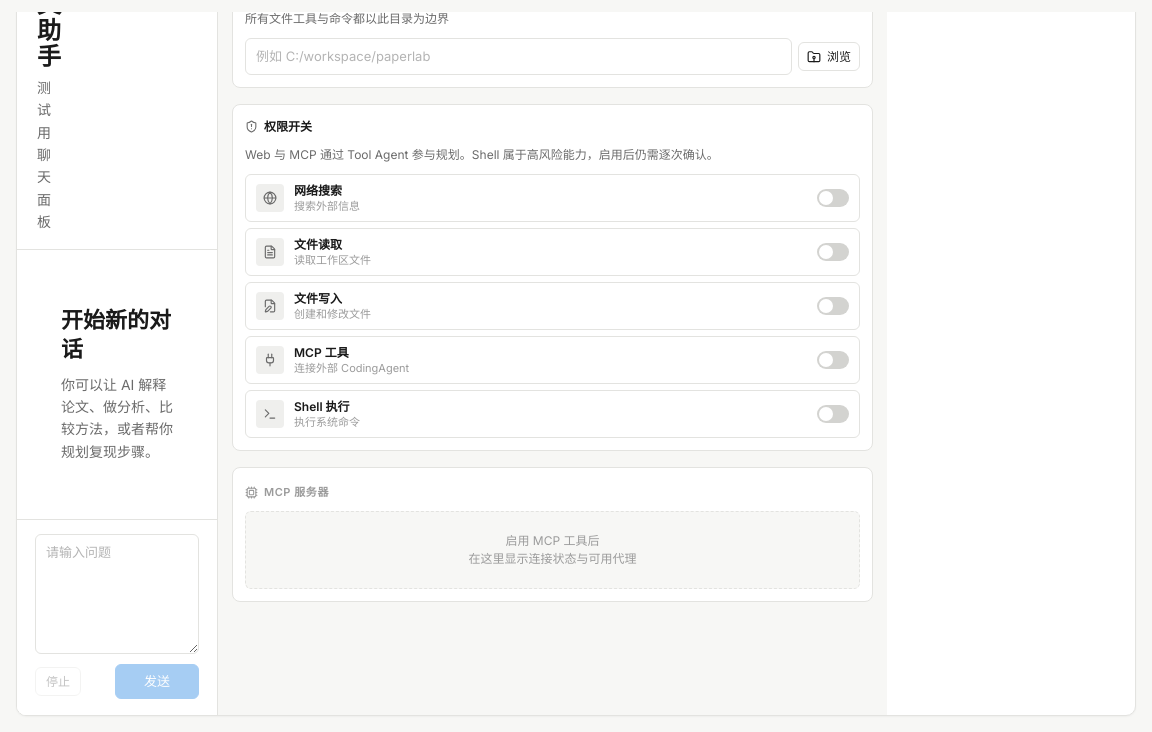
PaperLabChatPanel › 流式回答中输入会进入引导队列而不是启动新对话
The width and height of the screenshot is (1152, 732).
(page scrolled)
Type "解释论文" into the text box with placeholder "请输入问题".
click(117, 594); type("解释论文")  # box [35,534,199,654]
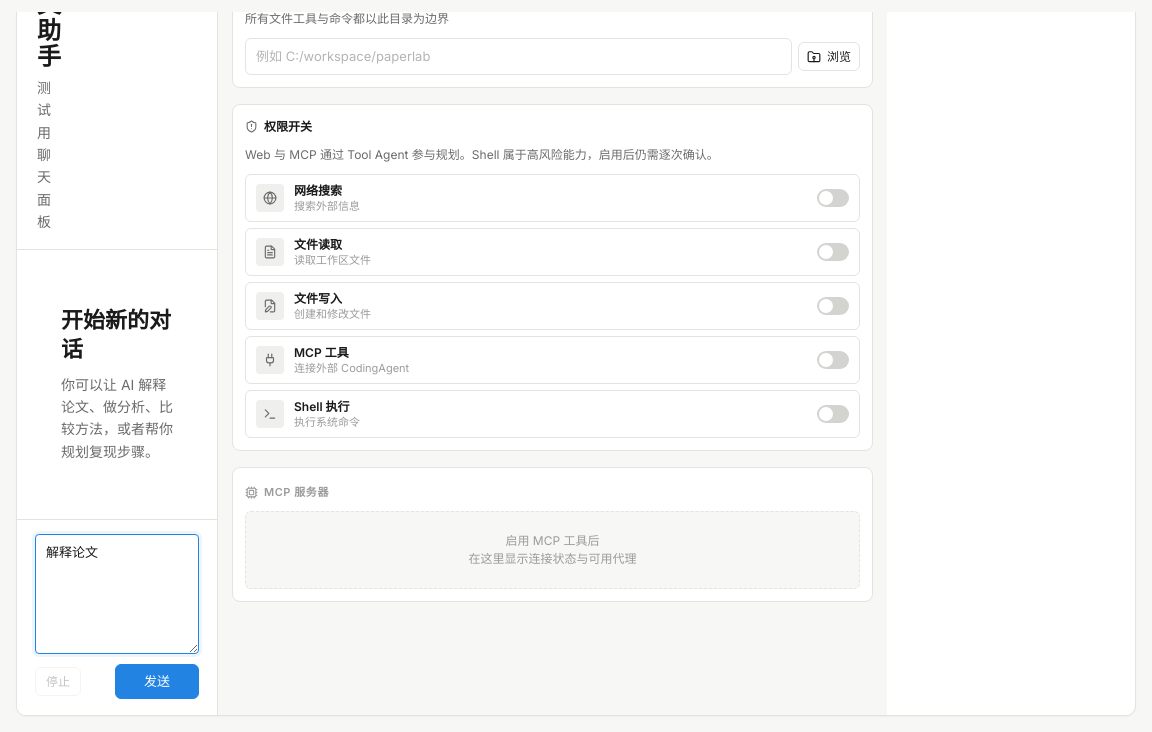
Click the button "发送".
click(157, 682)  # box [115,664,199,699]
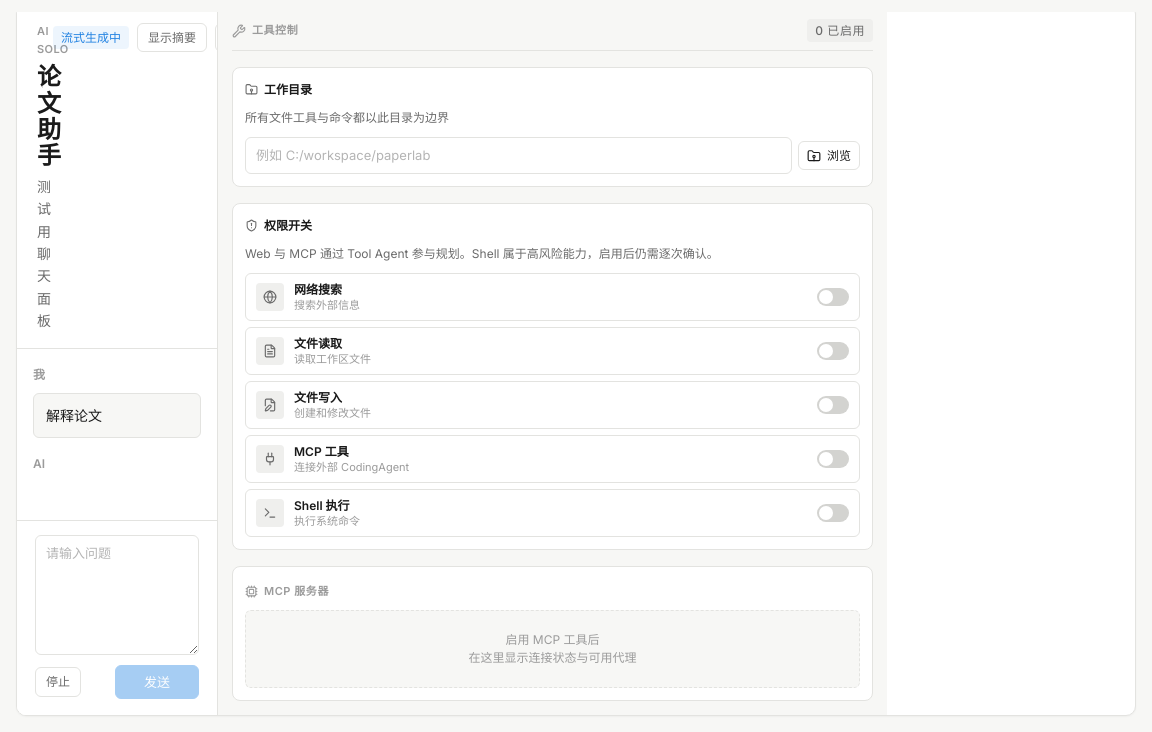
Type "请优先看实验" into the text box with placeholder "请输入问题".
click(117, 595); type("请优先看实验")  # box [35,535,199,655]
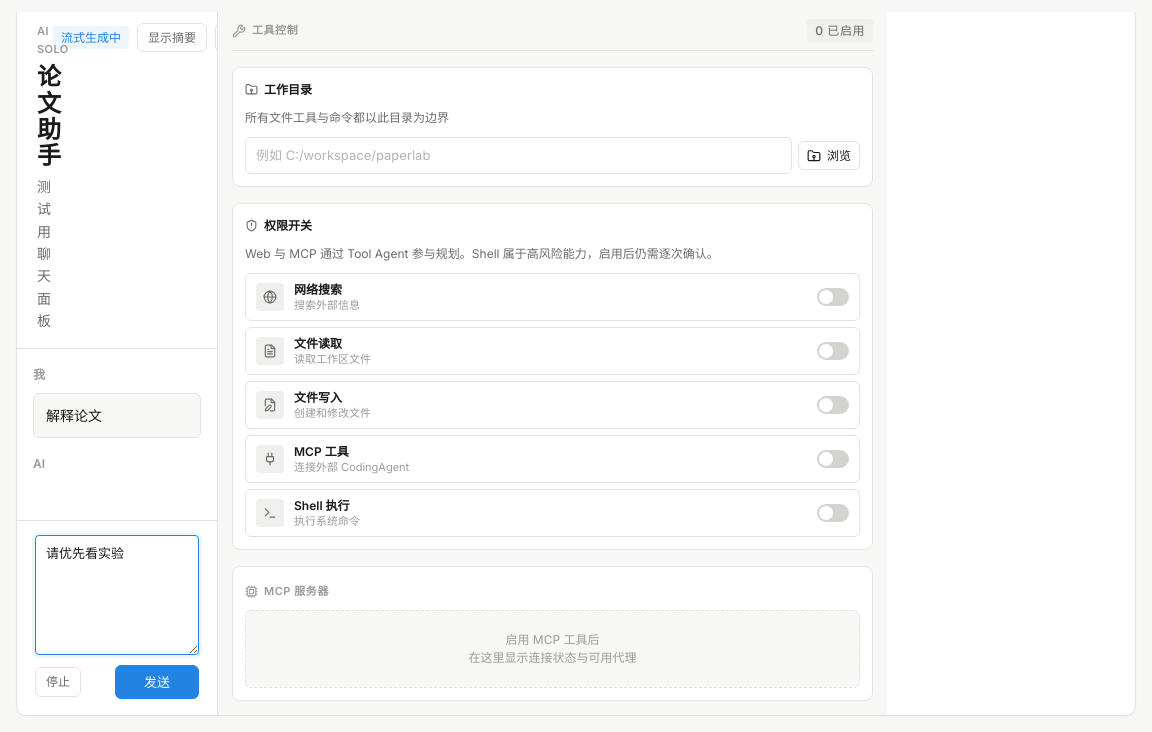
Expected: the button "发送" is enabled
Click the button "发送".
click(157, 682)  # box [115,665,199,699]
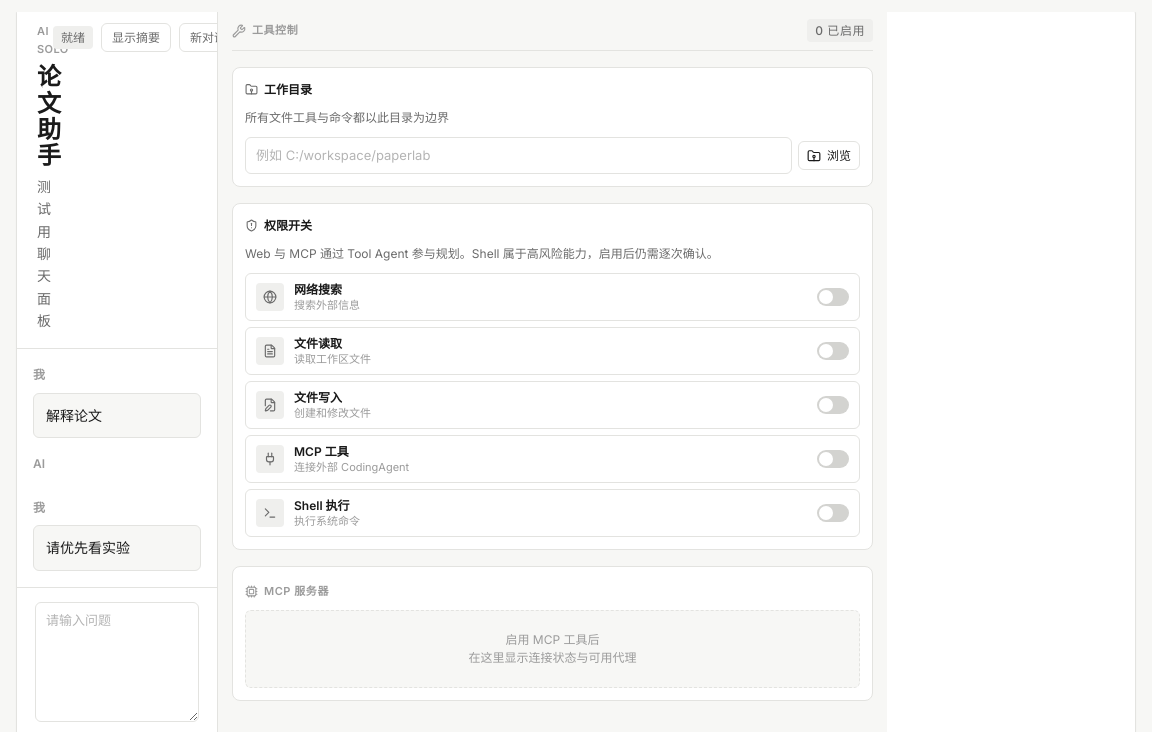
Expected: the text "请优先看实验" is shown, [33,525,201,571]
